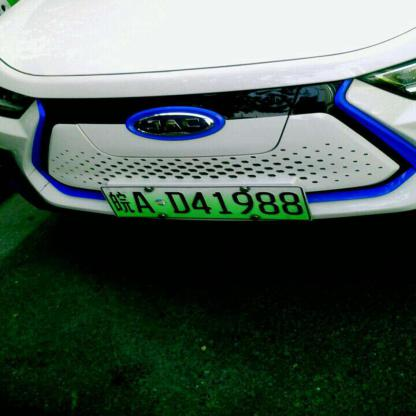lp: (101, 186, 310, 217)
